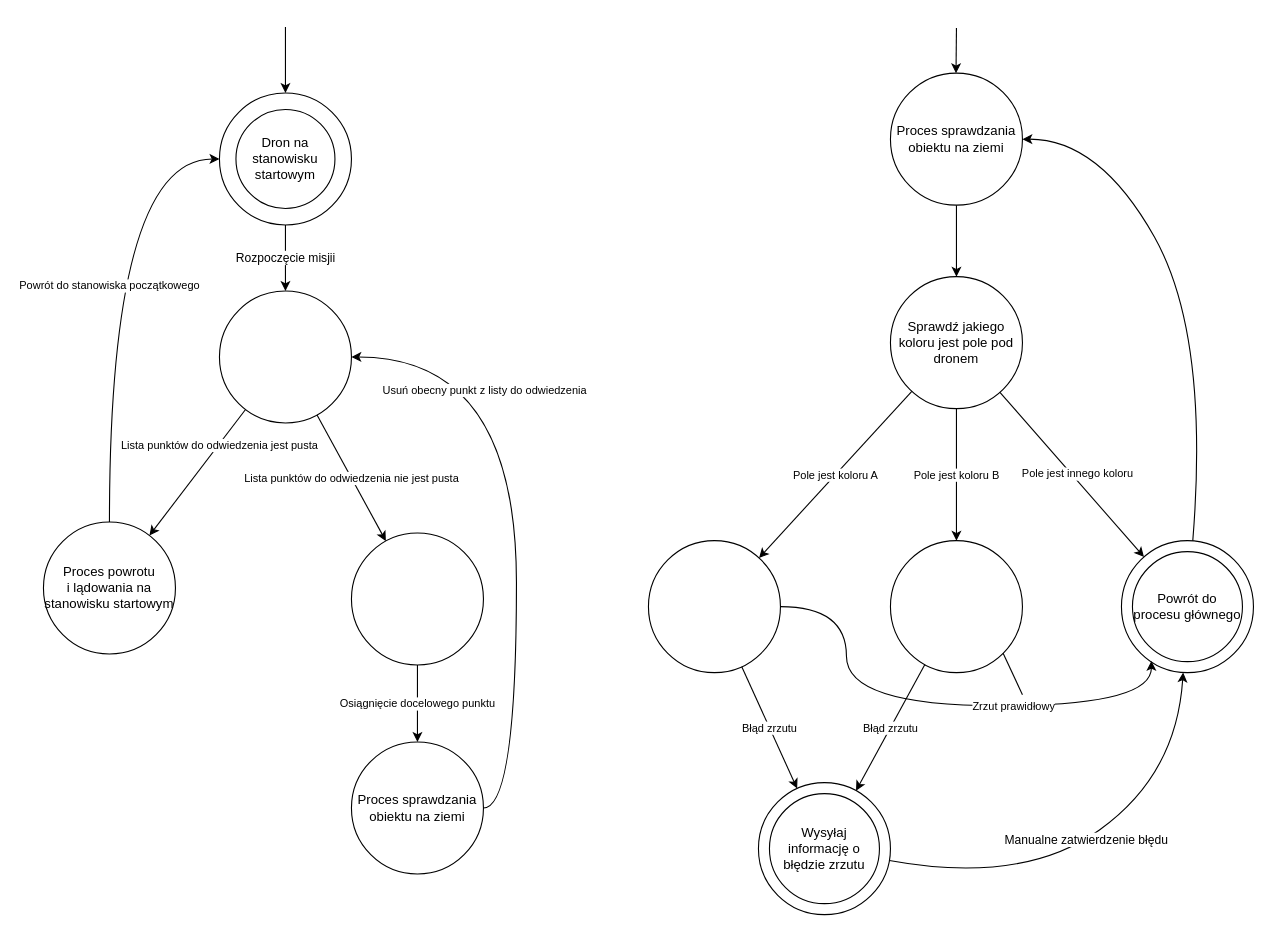
This 1273x934 diagram has some shape labels left out. The box of each missing label's shape, as (x1, y1, x2, y2) in pixels:
Lot do kolejnego punktu kontrolnego z listy: (350, 532, 483, 665)
Proces sprawdzania stanu misjii: (218, 290, 351, 423)
Proces zrzutu kulek o kolorze A: (647, 540, 780, 673)
Proces zrzutu kulek o kolorze B: (889, 540, 1022, 673)
